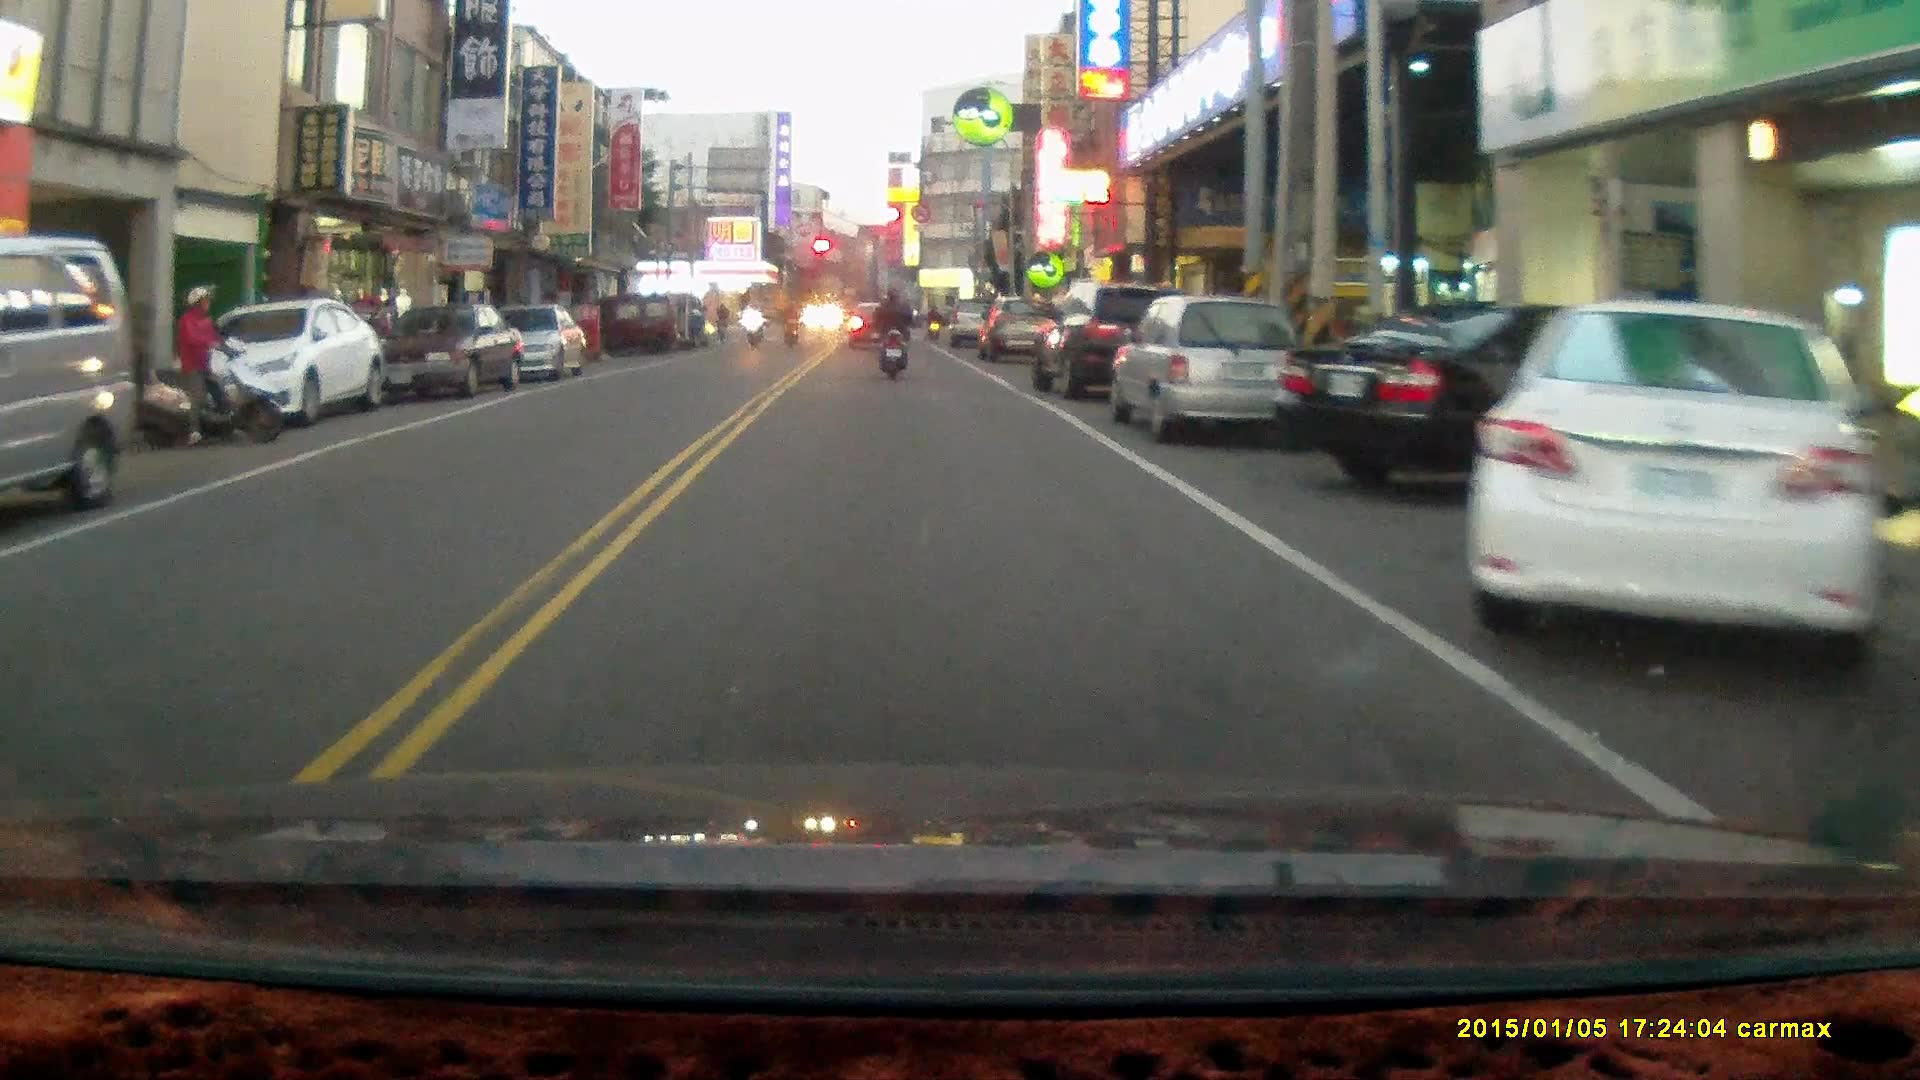rider: (132, 283, 278, 445), (869, 281, 912, 381), (739, 298, 765, 348)
vehicle: (1468, 295, 1875, 657), (1282, 298, 1786, 506), (1, 234, 136, 512), (1113, 292, 1314, 435), (172, 291, 381, 423), (1029, 281, 1194, 401), (362, 299, 523, 397), (465, 297, 586, 380)
